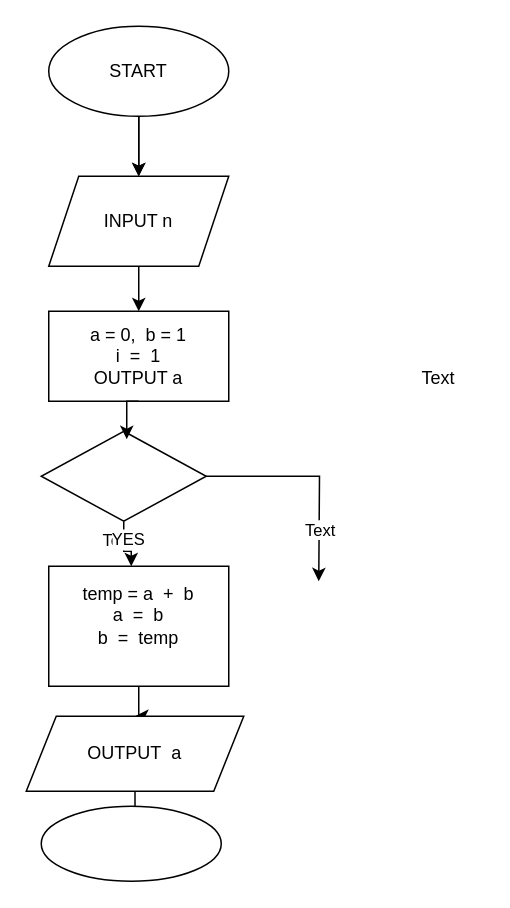
Image size: 510x908. Some labels were removed from this diagram. The centre of each missing label's shape, as x and y in pixels:
"is i <= n ?" belongs at (123,475).
"STOP" belongs at (130,843).
